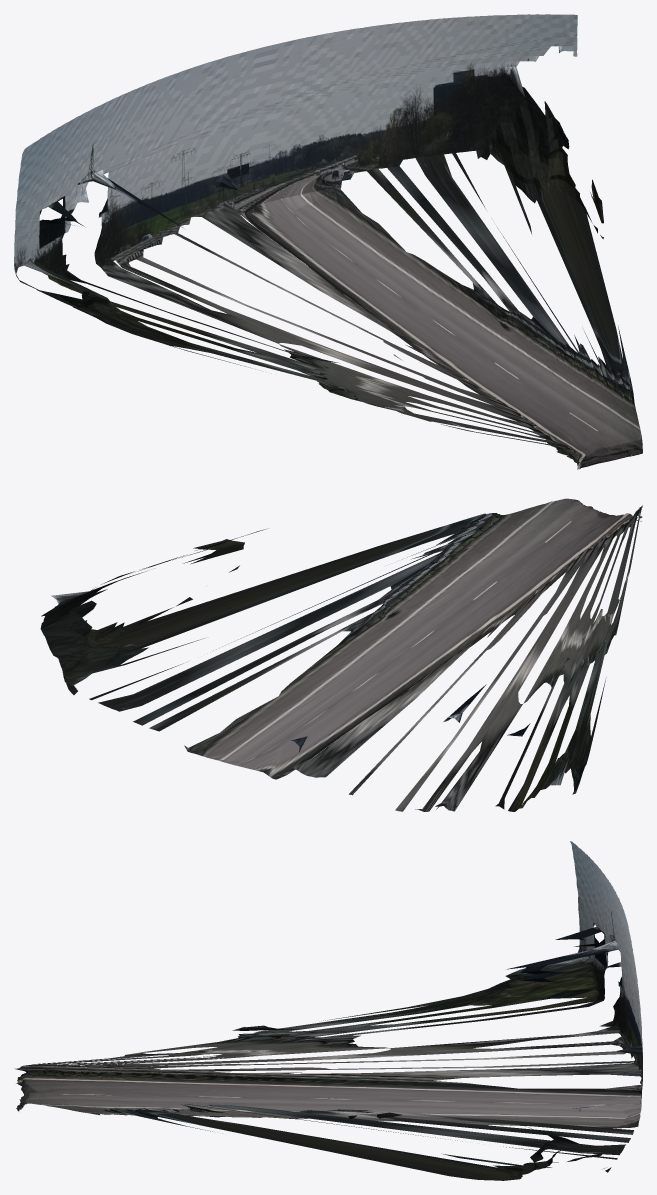
The picture shows the model from 3 angles, top to bottom: view 1: azimuth 30°, elevation 25°; view 2: azimuth 150°, elevation 25°; view 3: azimuth 270°, elevation 25°; orthographic projection. The views are drawn at different scales.
Parts seen in each view (by area): view 1: defaultobject; view 2: defaultobject; view 3: defaultobject.
Part boxes in pixels (x1,y1,x2,y2): defaultobject: [14, 14, 642, 469]; defaultobject: [40, 498, 642, 811]; defaultobject: [14, 841, 642, 1180].
Bounding box in the file's own units: 41 × 12.4 × 44.66.
Materials: 1 (1 with a texture image).
